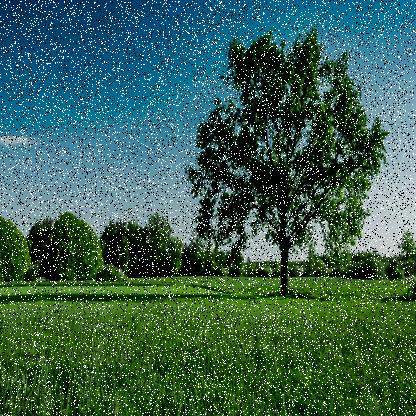Tree: (188, 23, 392, 301), (51, 196, 106, 287), (140, 208, 186, 278), (0, 204, 37, 288), (102, 218, 144, 282), (25, 215, 60, 281), (393, 224, 415, 282), (334, 238, 358, 282), (223, 244, 247, 278), (357, 254, 386, 282), (208, 246, 230, 278), (188, 238, 207, 275), (116, 235, 132, 275), (385, 254, 407, 280), (199, 244, 217, 275), (312, 252, 333, 278), (247, 260, 277, 276), (290, 260, 310, 277), (274, 264, 292, 277)
